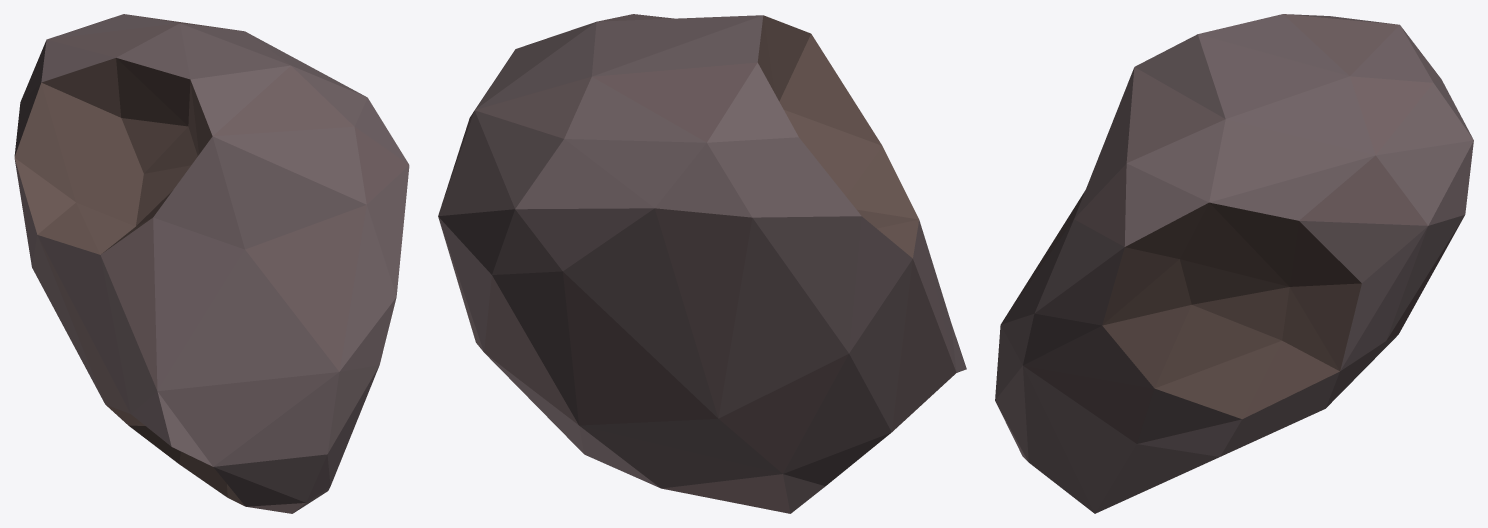
The model's file is asteroid_3.fbx.
3 renders of one model, left to right at view 1: azimuth 30°, elevation 25°; view 2: azimuth 150°, elevation 25°; view 3: azimuth 270°, elevation 25°, orthographic. The views are drawn at different scales.
Parts seen in each view (by area): view 1: asteroid_3; view 2: asteroid_3; view 3: asteroid_3.
Part boxes in pixels (bbox=[...]): asteroid_3: bbox=[14, 14, 409, 513]; asteroid_3: bbox=[438, 14, 966, 513]; asteroid_3: bbox=[995, 14, 1473, 513].
Size of the model in its own units: 156 by 195 by 188.
